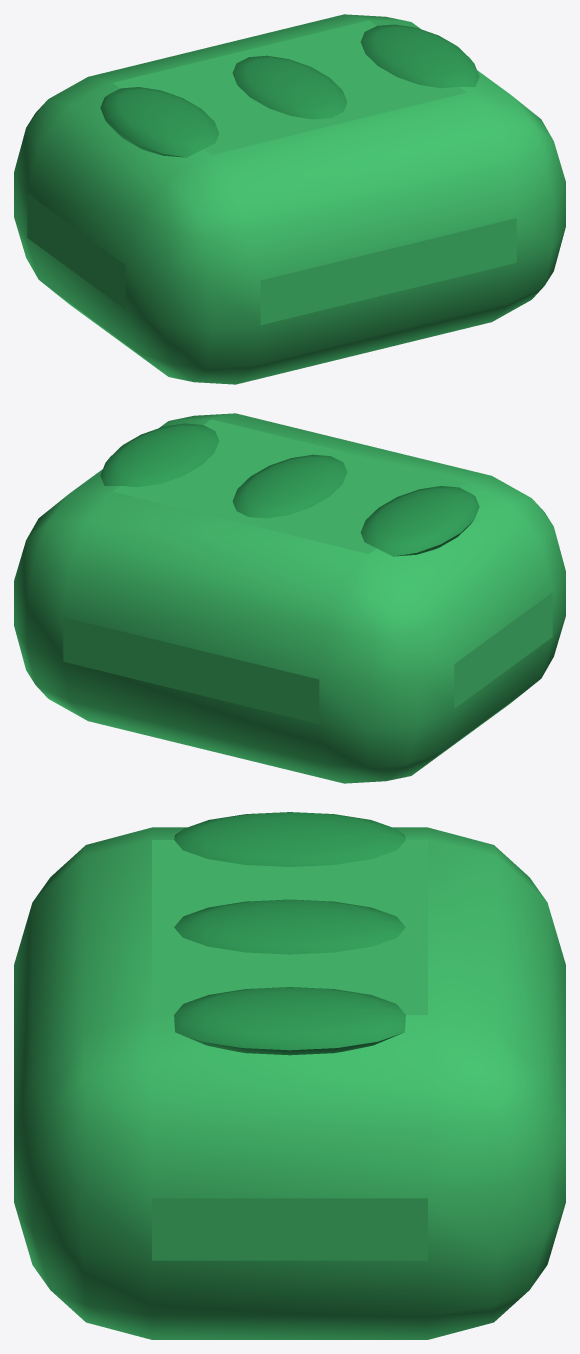
File: telo.glb
3 views of the same model, one above another, from view 1: azimuth 30°, elevation 25°; view 2: azimuth 150°, elevation 25°; view 3: azimuth 270°, elevation 25° (orthographic). The views are drawn at different scales.
Parts seen in each view (by area): view 1: had_telo_m, had_skvrna_0, had_skvrna_2, had_skvrna_1; view 2: had_telo_m, had_skvrna_0, had_skvrna_2, had_skvrna_1; view 3: had_telo_m, had_skvrna_2, had_skvrna_0, had_skvrna_1.
Part boxes in pixels (x1=…): had_telo_m: x1=14, y1=14, x2=565, y2=384; had_skvrna_0: x1=100, y1=87, x2=219, y2=157; had_skvrna_2: x1=360, y1=24, x2=479, y2=88; had_skvrna_1: x1=232, y1=55, x2=347, y2=119; had_telo_m: x1=14, y1=413, x2=565, y2=783; had_skvrna_0: x1=360, y1=486, x2=479, y2=556; had_skvrna_2: x1=100, y1=423, x2=219, y2=487; had_skvrna_1: x1=232, y1=454, x2=347, y2=518; had_telo_m: x1=14, y1=827, x2=565, y2=1339; had_skvrna_2: x1=174, y1=987, x2=405, y2=1055; had_skvrna_0: x1=174, y1=812, x2=405, y2=866; had_skvrna_1: x1=174, y1=899, x2=405, y2=954.
Bounding box in the file's own units: 1 × 0.52 × 0.8.
